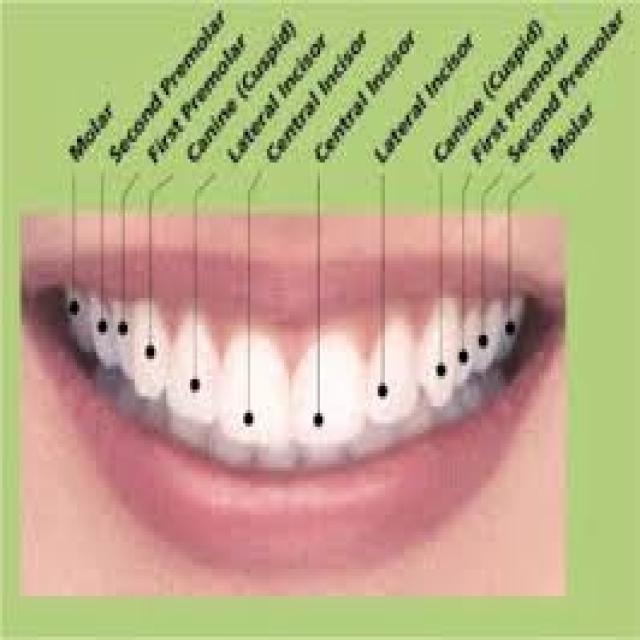tooth: (289, 342, 363, 437), (224, 339, 284, 447), (361, 318, 421, 416), (171, 325, 219, 417), (132, 305, 171, 403), (421, 301, 455, 403), (91, 308, 123, 359), (455, 318, 479, 383), (62, 298, 94, 345), (476, 312, 501, 369), (118, 312, 135, 372), (505, 302, 522, 352)
